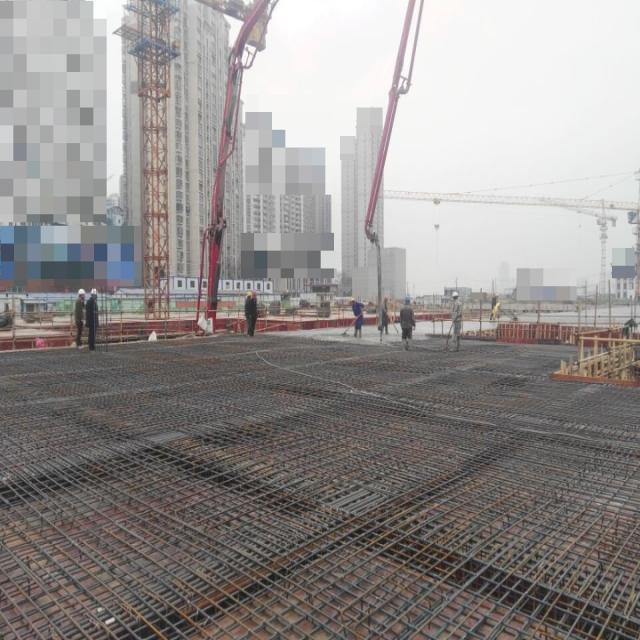crane: (112, 0, 268, 319), (378, 190, 640, 295), (556, 206, 617, 293)
truck: (196, 0, 279, 329), (363, 0, 424, 329)
